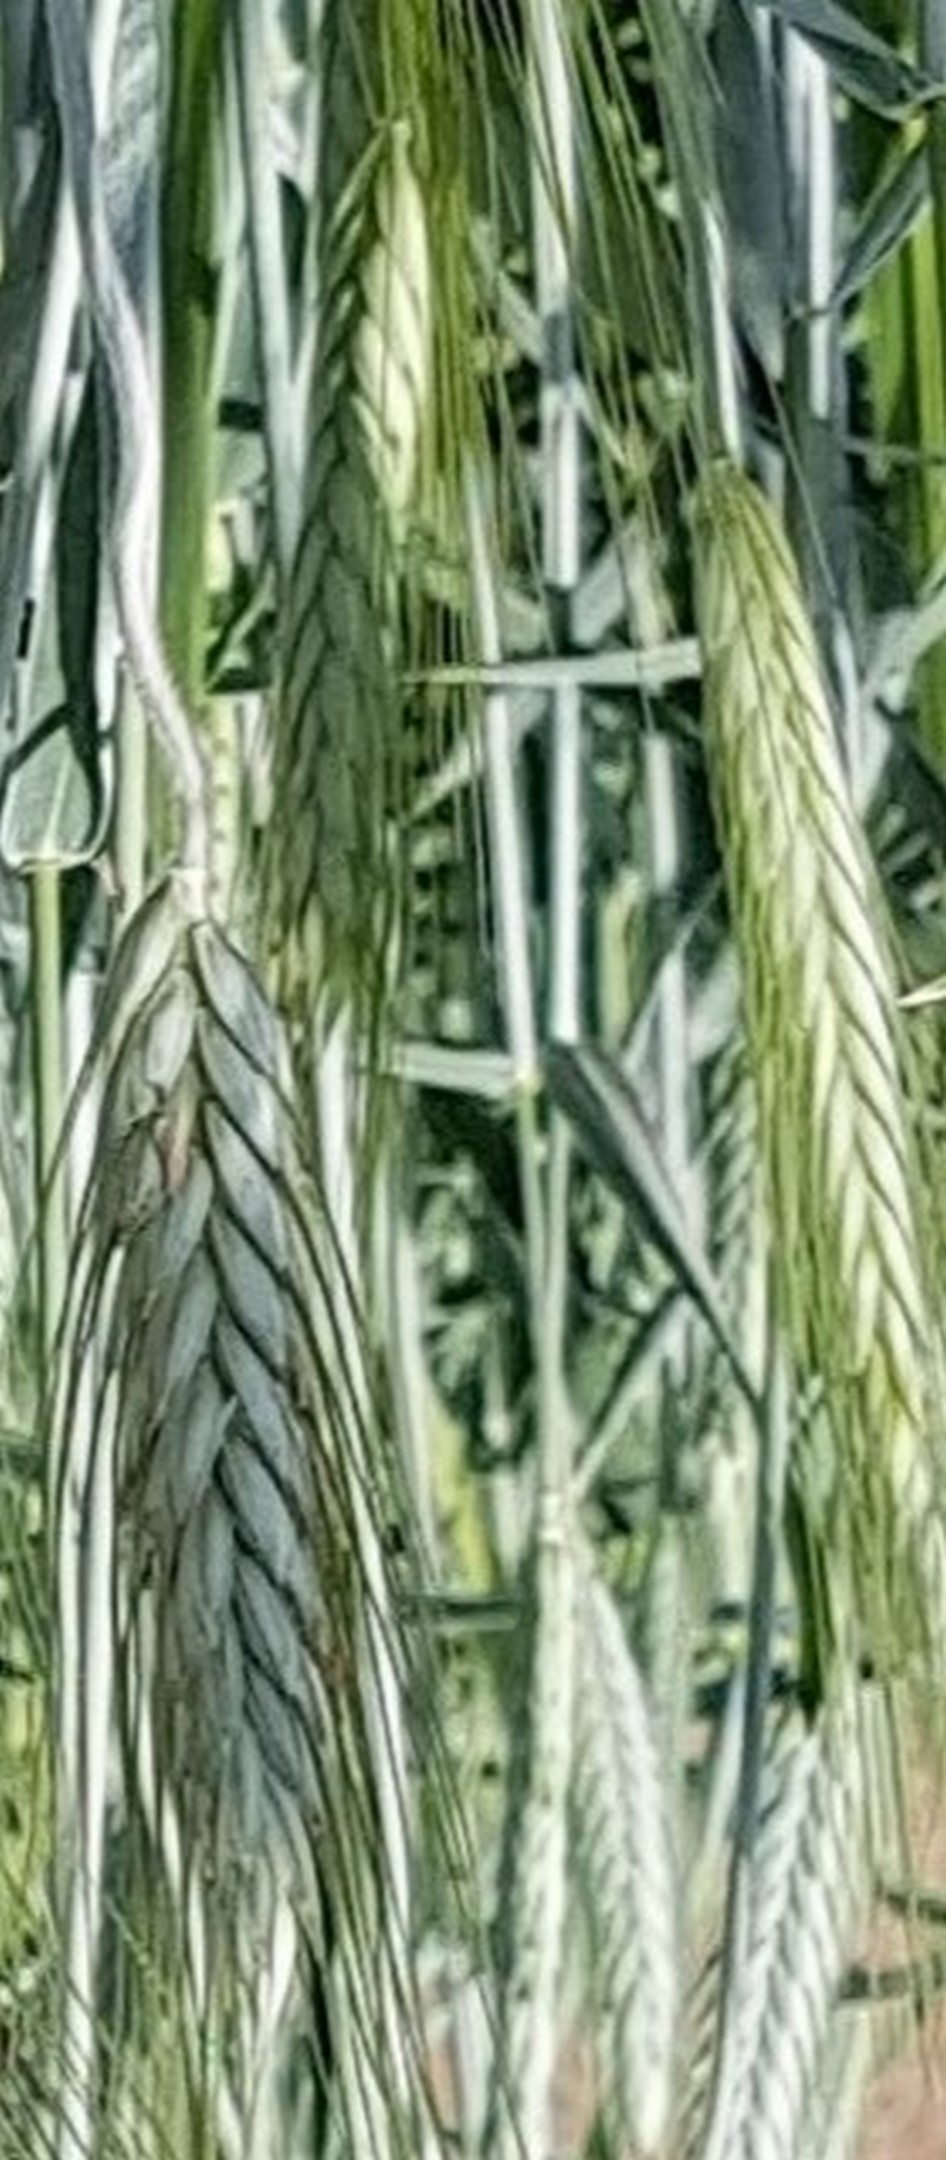Healthy Wheat: (94, 851, 421, 1984), (669, 437, 946, 1394)
